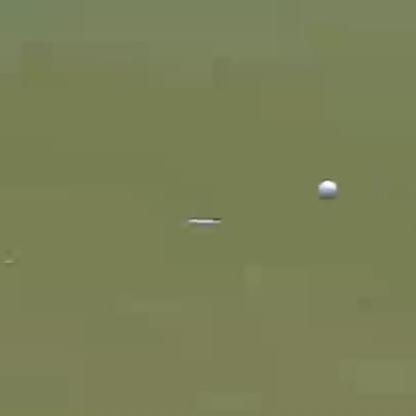golfball: (315, 178, 337, 198)
